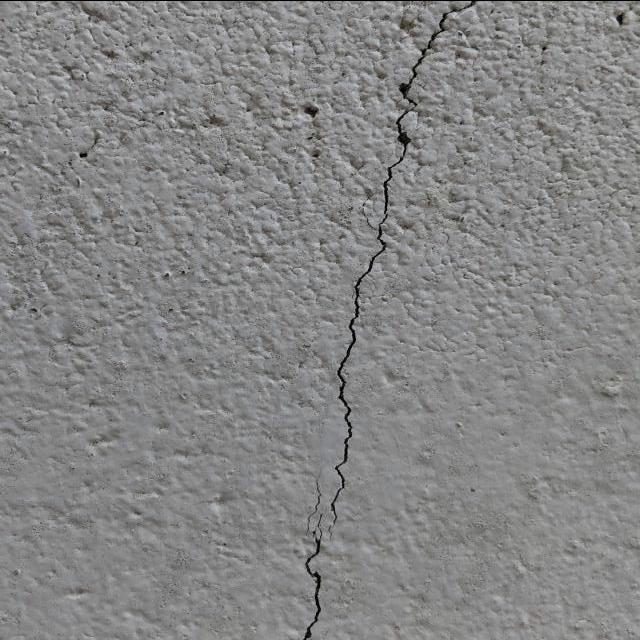SurfaceCrack: (251, 1, 484, 640)
